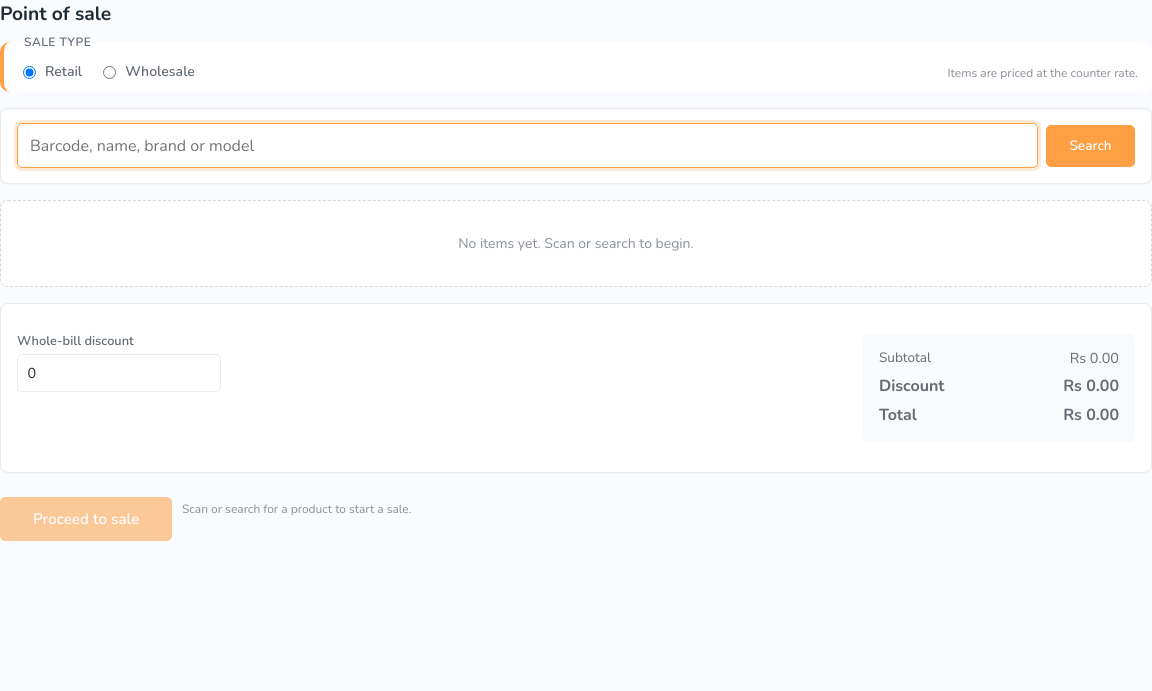
Test: payment proof after a sale › is offered for a bank transfer
The width and height of the screenshot is (1152, 691).
Step 1. Click the radio button labelled "Wholesale" → (110, 73), box [103,66,116,79]
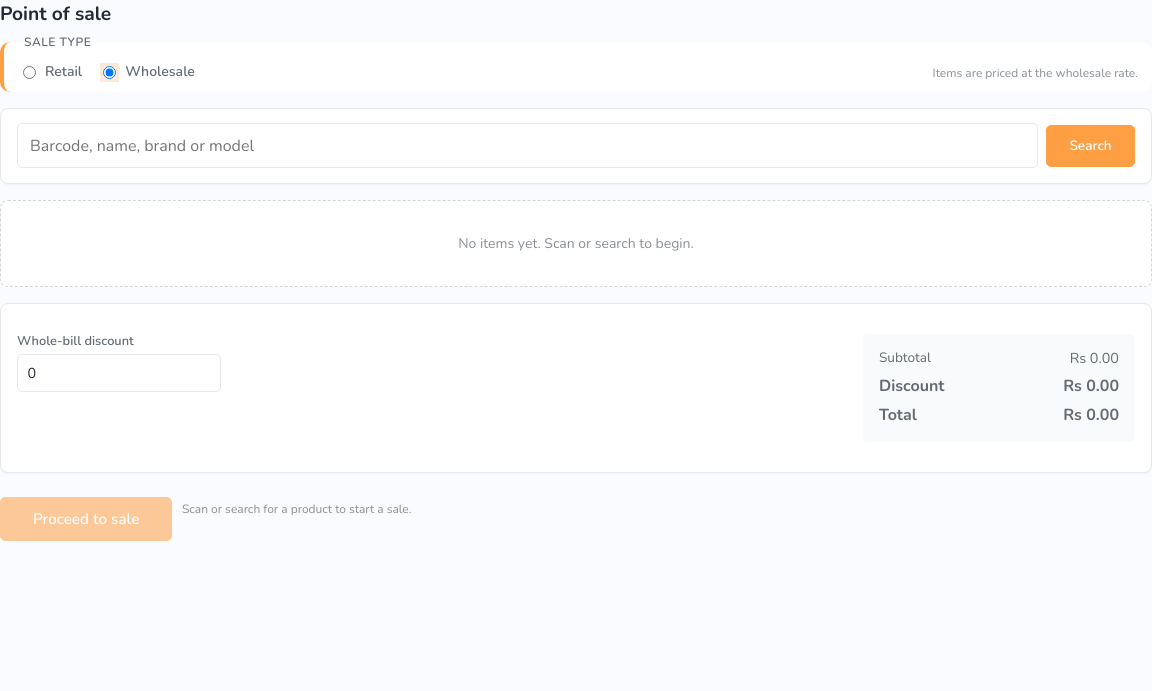
Step 2. Type "8901234567890" into the field named "scan or search" → (528, 146), box [17,123,1038,168]
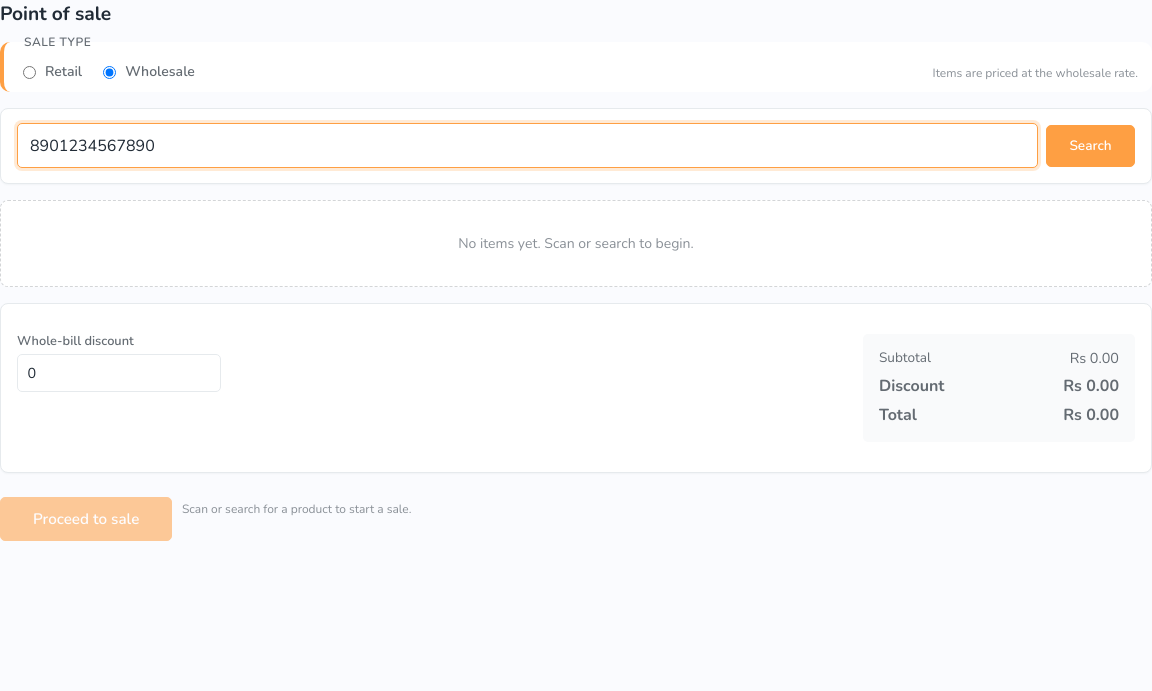
Step 3. Press Enter
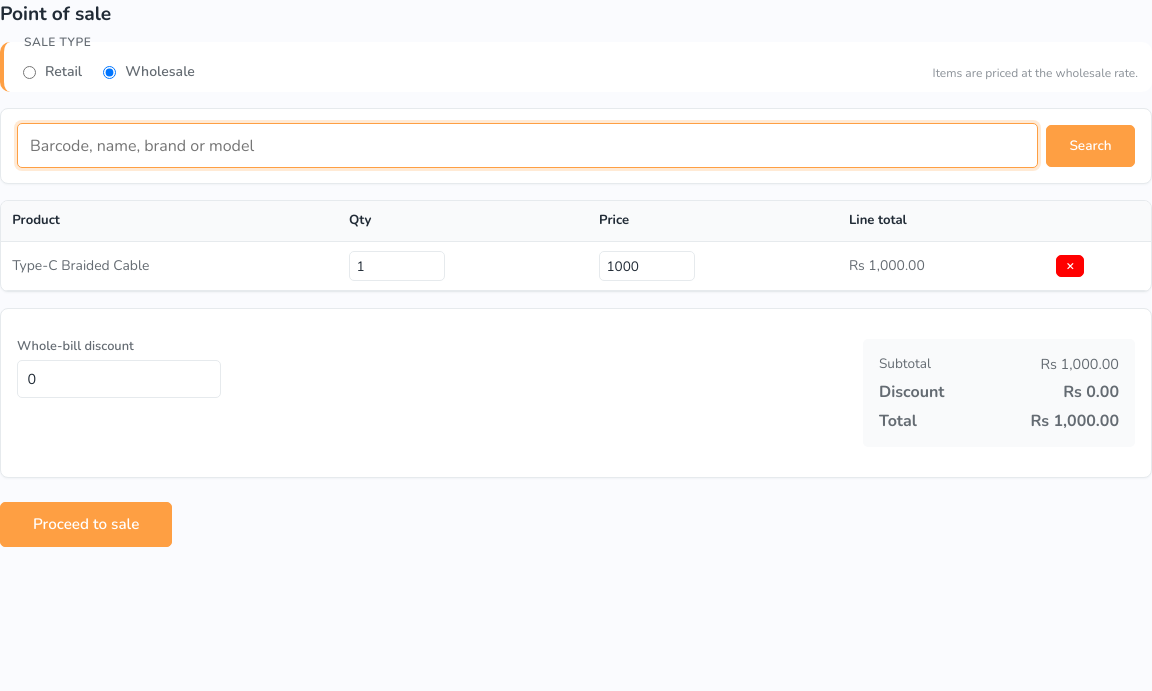
Expected: the row with test id "cart-line-1" is shown, [1,242,1151,291]
Step 4. Click the button "Proceed to sale" → (86, 524), box [0,502,172,547]
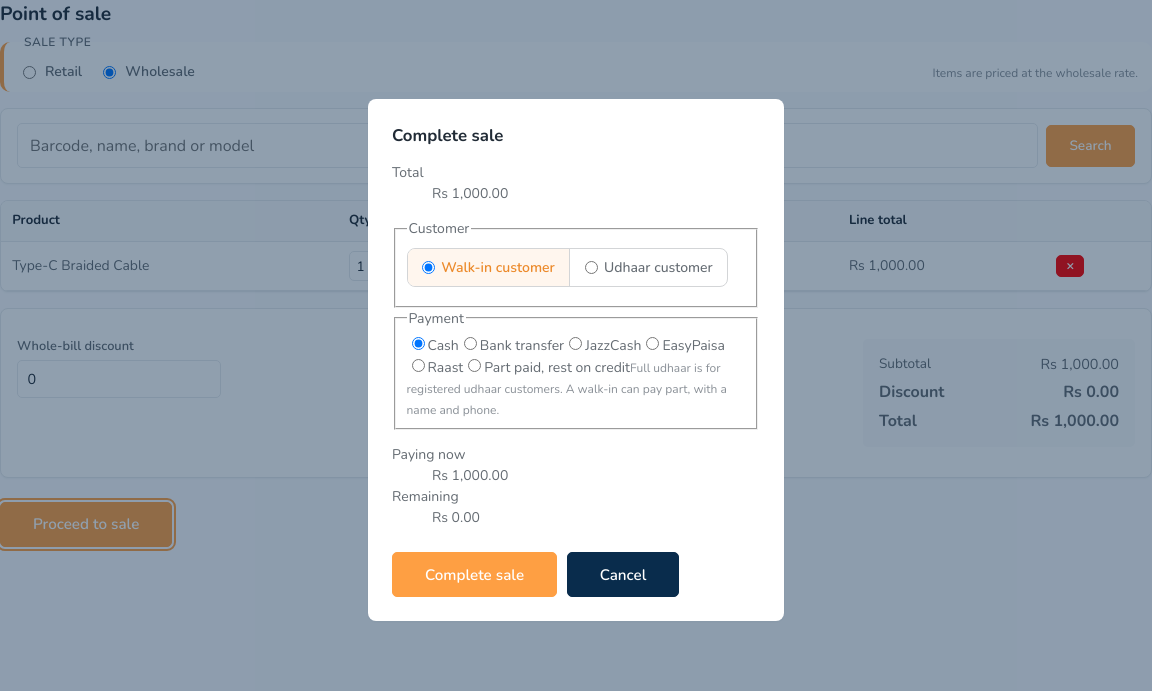
Step 5. Click the radio button labelled "Bank transfer" → (470, 343), box [464,337,477,350]
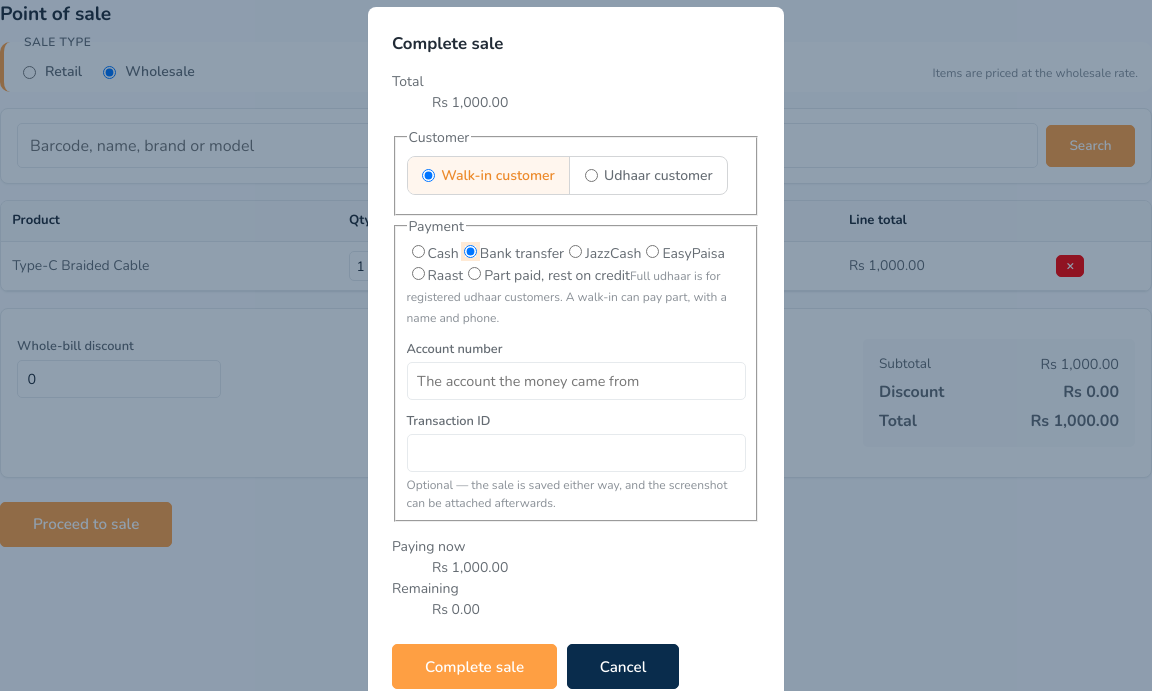
Step 6. Click the button "Complete sale" → (474, 666), box [392,644,557,689]
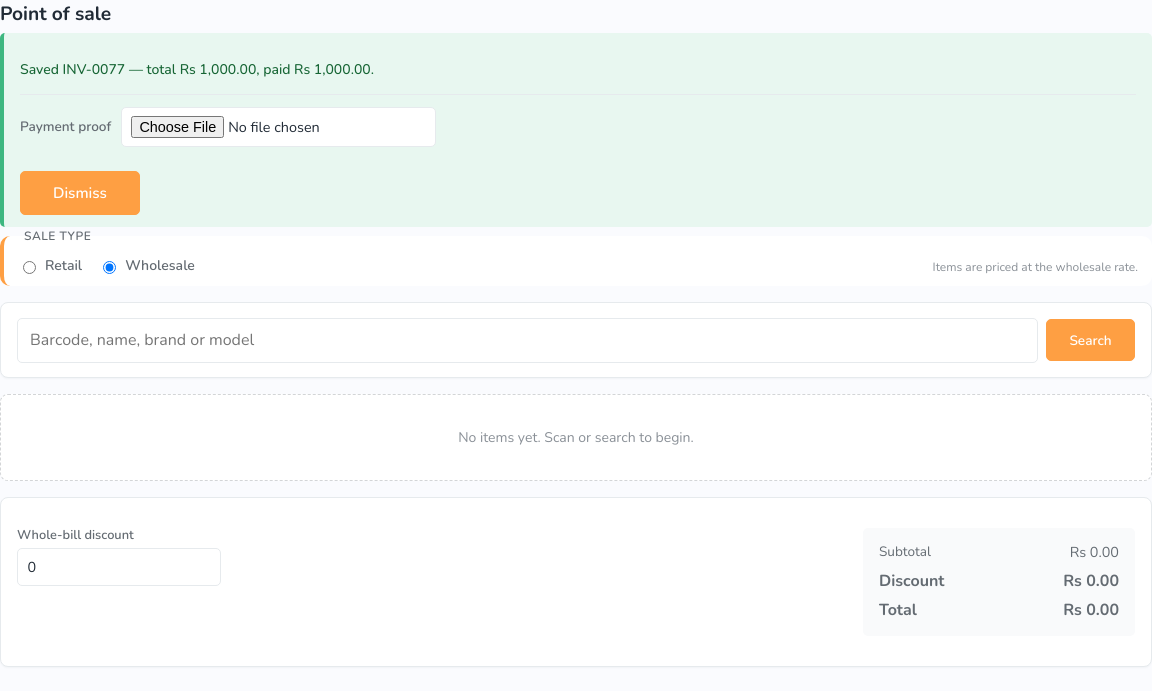
Expected: the text "Saved INV-0077 — total Rs 1,000.00, paid Rs 1,000.00." is shown, [20,60,374,79]
Expected: the file field labelled "Payment proof" is shown, [121,107,436,147]
